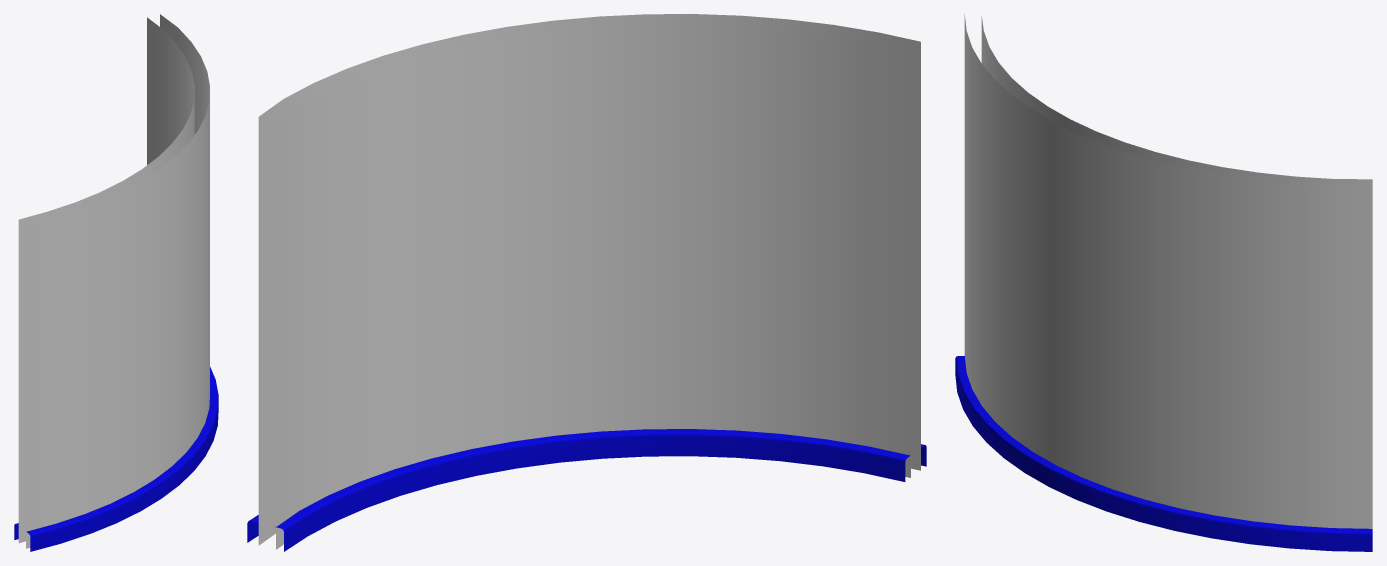
File: CurvedPlainWall.fbx
3 views of the same model, side by side, from view 1: azimuth 30°, elevation 25°; view 2: azimuth 150°, elevation 25°; view 3: azimuth 270°, elevation 25° (orthographic). The views are drawn at different scales.
Visible parts, largest first — view 1: Wall, Trim; view 2: Wall, Trim; view 3: Wall, Trim.
Boxes of the visible parts, box(x1,y1,x2,y2) form: Wall: box(18, 14, 209, 548); Trim: box(14, 366, 218, 551); Wall: box(258, 14, 920, 549); Trim: box(247, 429, 926, 551); Wall: box(964, 14, 1372, 528); Trim: box(955, 356, 1372, 551).
Bounding box in the file's own units: 12.58 × 11.97 × 12.54.
